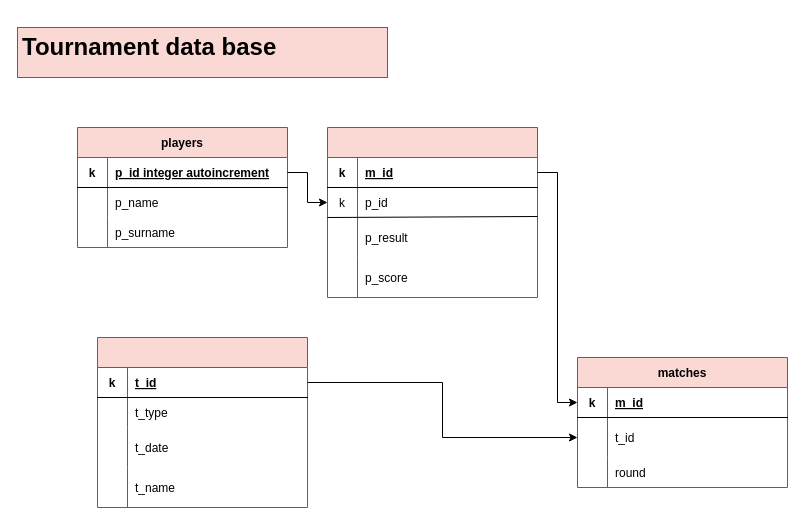
This 805x525 diagram has some shape labels left out. The box of each missing label's shape, as (x1, y1, x2, y2) in pixels:
player_matches: (326, 126, 538, 298)
tourneys: (96, 336, 308, 508)
